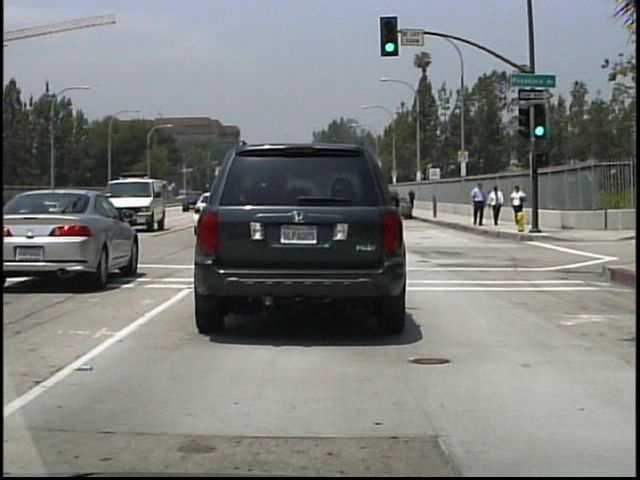person: (469, 180, 486, 229), (488, 184, 505, 228), (510, 184, 527, 214), (408, 188, 418, 205)
